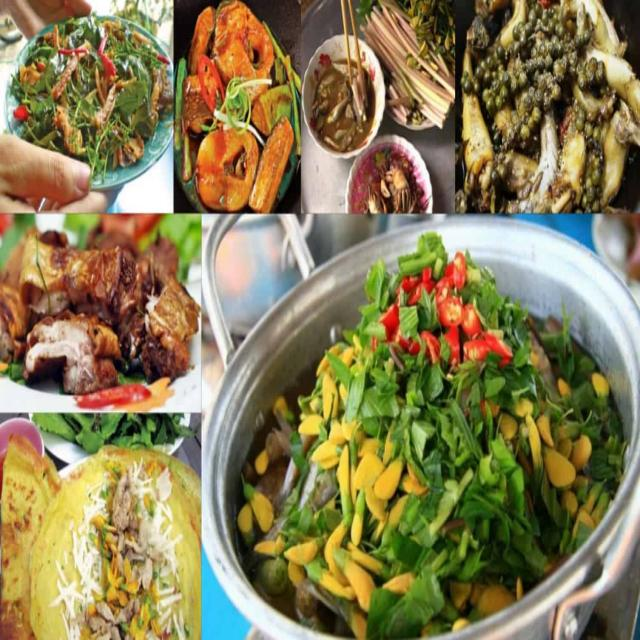banh xeo: (0, 417, 201, 636)
ca kho: (174, 3, 302, 214)
ga nuong: (0, 215, 199, 415)
lau: (200, 221, 640, 637)
